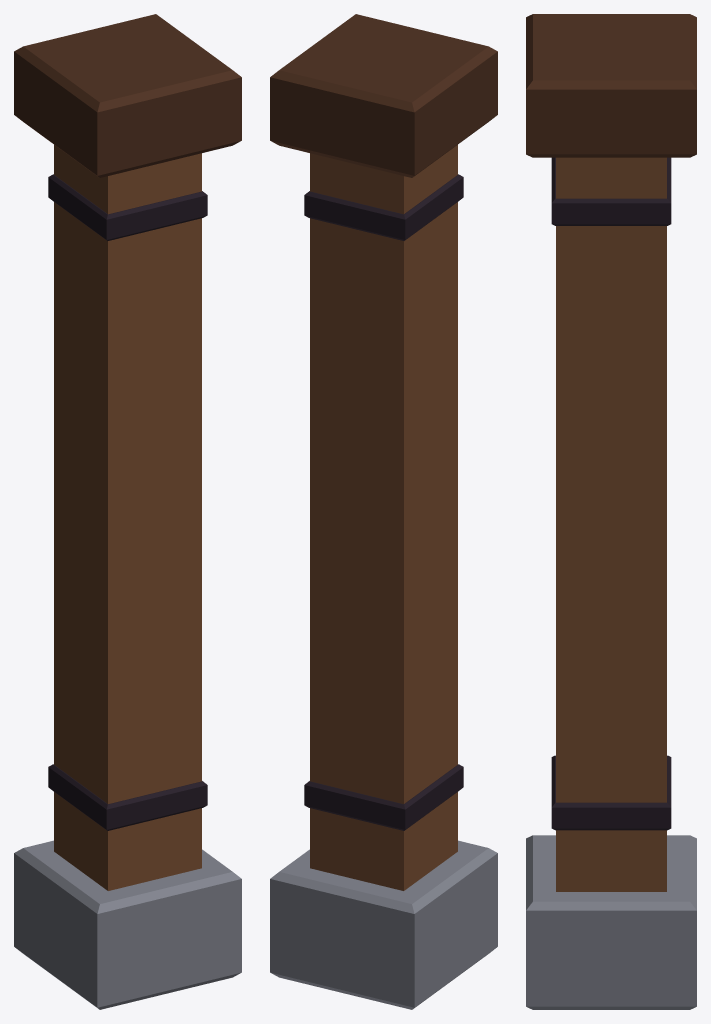
The model's file is Pillar_02.glb.
The picture shows the model from 3 angles, left to right: view 1: azimuth 30°, elevation 25°; view 2: azimuth 150°, elevation 25°; view 3: azimuth 270°, elevation 25°; orthographic projection. The views are drawn at different scales.
Visible parts, largest first — view 1: Pillar_02; view 2: Pillar_02; view 3: Pillar_02.
Part boxes in pixels (left/top/right/bottom): Pillar_02: left=14, top=14, right=241, bottom=1009; Pillar_02: left=270, top=14, right=497, bottom=1009; Pillar_02: left=526, top=14, right=696, bottom=1009.
Size of the model in its own units: 2 by 12 by 2.
